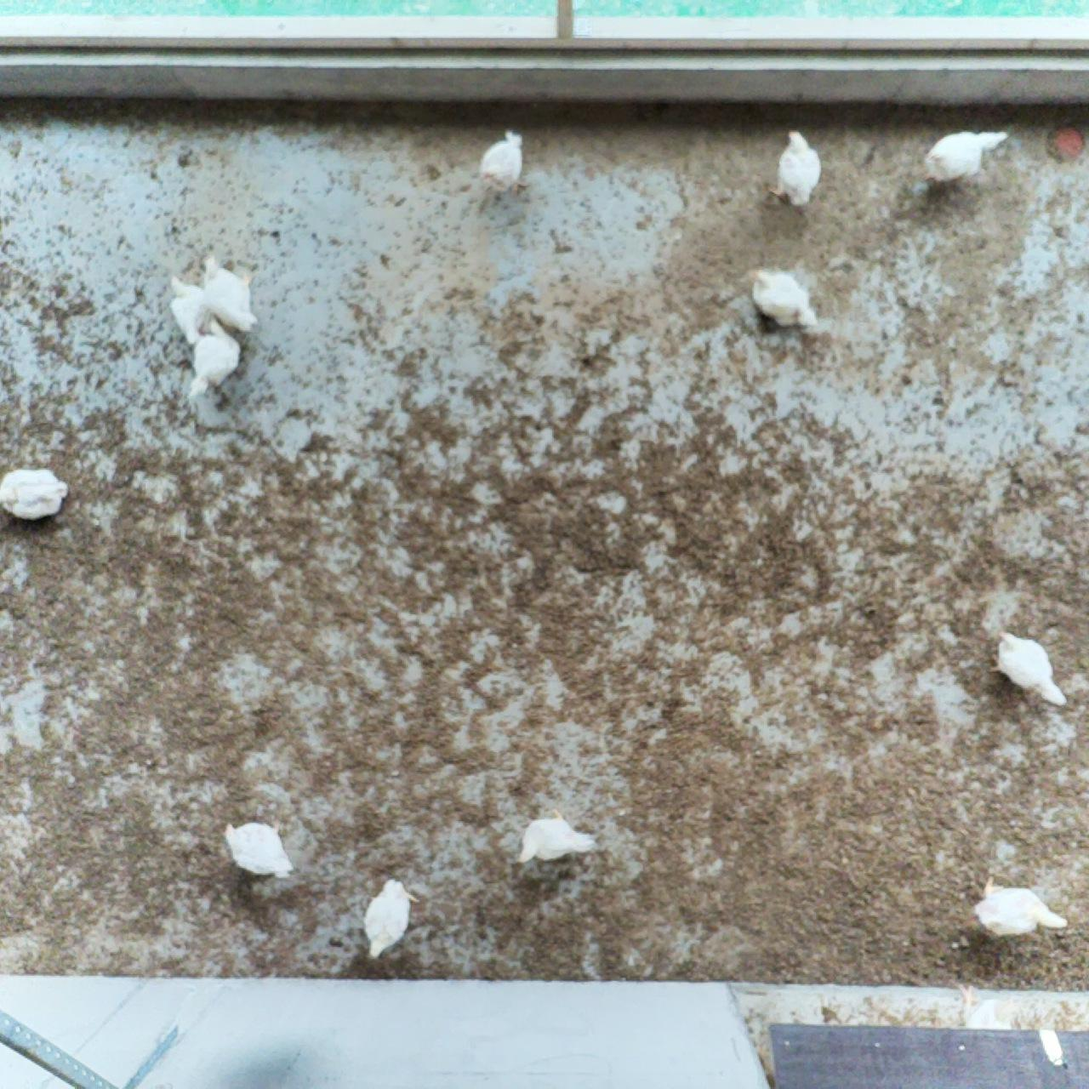chicken: (993, 621, 1067, 713), (967, 873, 1069, 938), (737, 262, 818, 336), (216, 814, 303, 882), (196, 251, 258, 338), (186, 315, 244, 407), (512, 810, 603, 867), (920, 127, 1010, 184), (360, 874, 414, 961), (767, 128, 826, 207), (475, 128, 530, 198), (0, 466, 66, 520), (165, 270, 212, 338)
